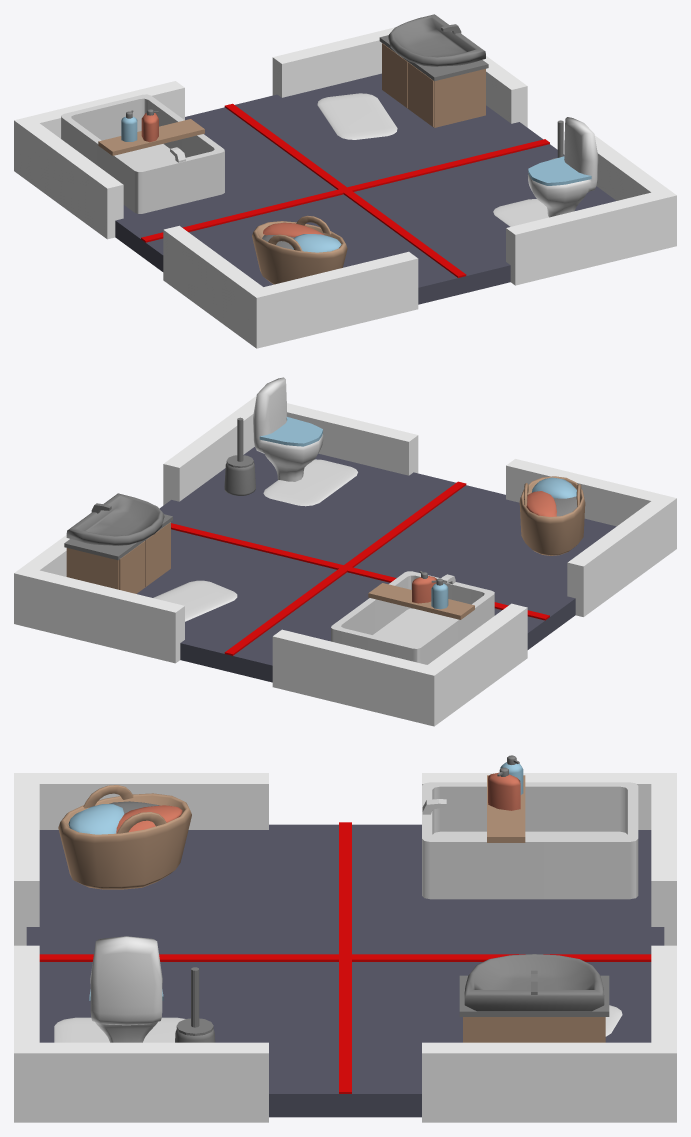
File: X_SalleDeBain_Classique.fbx
3 renders of one model, top to bottom at view 1: azimuth 30°, elevation 25°; view 2: azimuth 150°, elevation 25°; view 3: azimuth 270°, elevation 25°, orthographic. The views are drawn at different scales.
Visible parts, largest first — view 1: X_SalleDeBain_Classique; view 2: X_SalleDeBain_Classique; view 3: X_SalleDeBain_Classique.
Boxes of the visible parts, x1,y1,x2,y2 form: X_SalleDeBain_Classique: [14, 14, 676, 348]; X_SalleDeBain_Classique: [14, 377, 676, 726]; X_SalleDeBain_Classique: [14, 755, 676, 1122].
Bounding box in the file's own units: 26 × 6.36 × 26.
